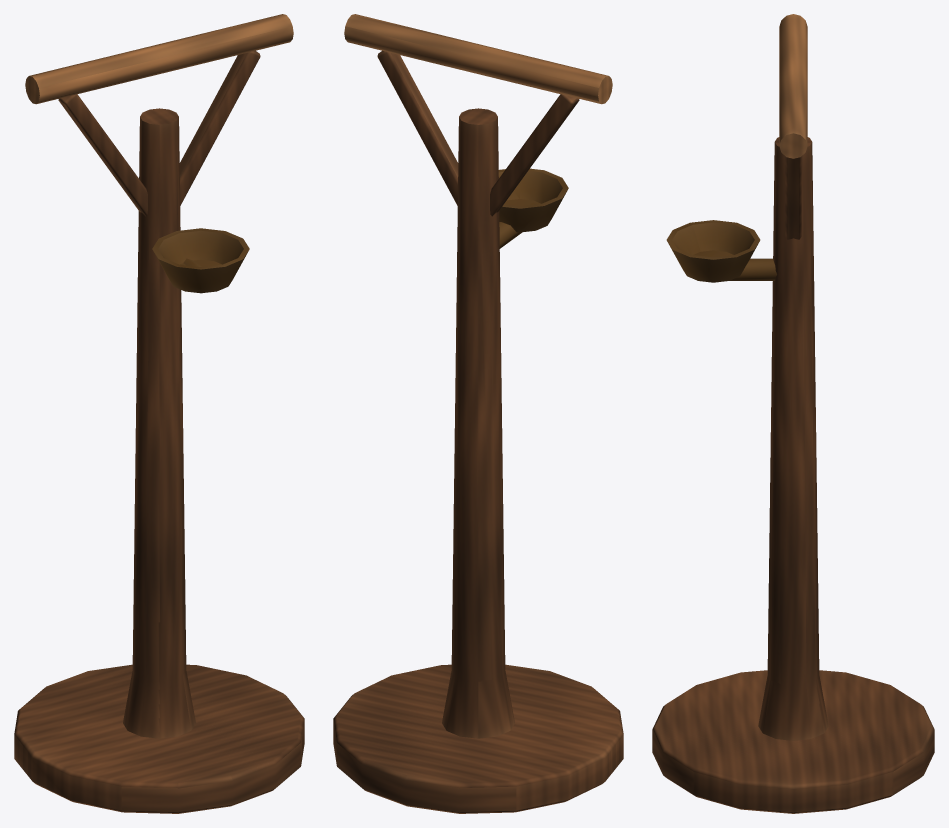
Rendered from Furn_Place_FamiliarPerch.fbx.
The picture shows the model from 3 angles, left to right: view 1: azimuth 30°, elevation 25°; view 2: azimuth 150°, elevation 25°; view 3: azimuth 270°, elevation 25°; orthographic projection. The views are drawn at different scales.
Parts seen in each view (by area): view 1: Furn_Place_FamiliarPerch; view 2: Furn_Place_FamiliarPerch; view 3: Furn_Place_FamiliarPerch.
Part boxes in pixels (x1,y1,x2,y2): Furn_Place_FamiliarPerch: (14, 14, 304, 813); Furn_Place_FamiliarPerch: (333, 14, 623, 813); Furn_Place_FamiliarPerch: (652, 14, 934, 813).
Bounding box in the file's own units: 0.6 × 1.6 × 0.6.
3 materials, 3 textured.
